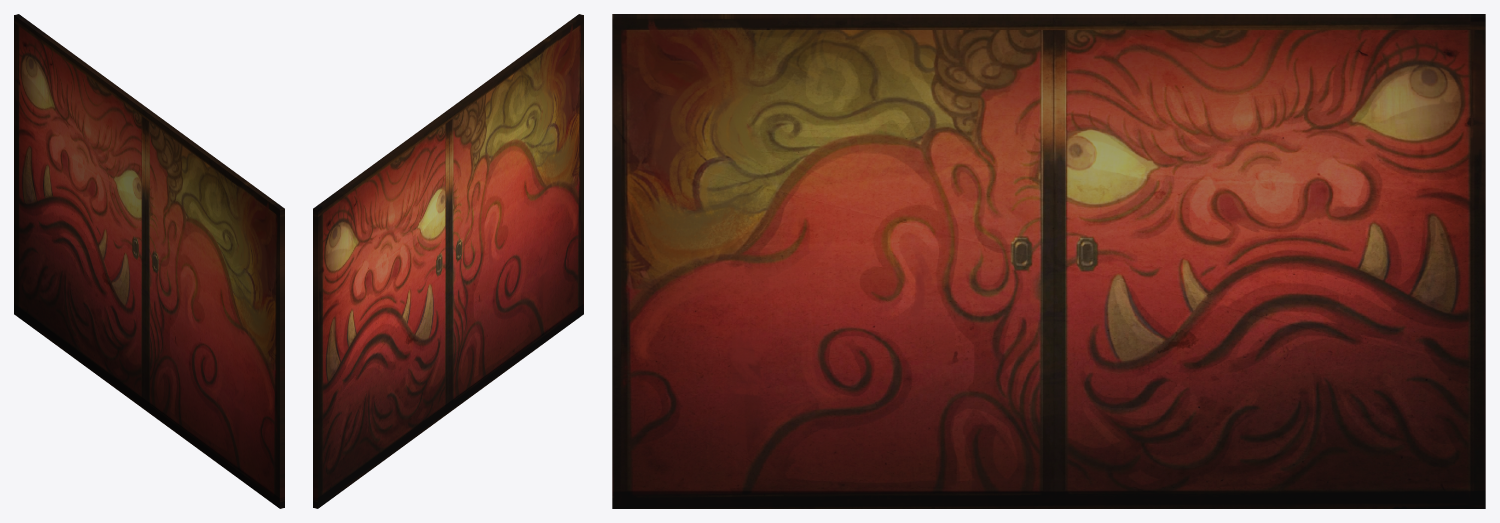
Rendered from wall04.FBX.
The picture shows the model from 3 angles, left to right: view 1: azimuth 30°, elevation 25°; view 2: azimuth 150°, elevation 25°; view 3: azimuth 270°, elevation 25°; orthographic projection. The views are drawn at different scales.
Visible parts, largest first — view 1: Door_L, Door_R; view 2: Door_R, Door_L; view 3: Door_L, Door_R.
Part boxes in pixels (x1=…): Door_L: x1=145, y1=110, x2=284, y2=508; Door_R: x1=14, y1=14, x2=149, y2=410; Door_R: x1=313, y1=112, x2=449, y2=508; Door_L: x1=445, y1=14, x2=583, y2=412; Door_L: x1=612, y1=14, x2=1053, y2=508; Door_R: x1=1054, y1=14, x2=1485, y2=508.
Bounding box in the file's own units: 3 × 180 × 290.
